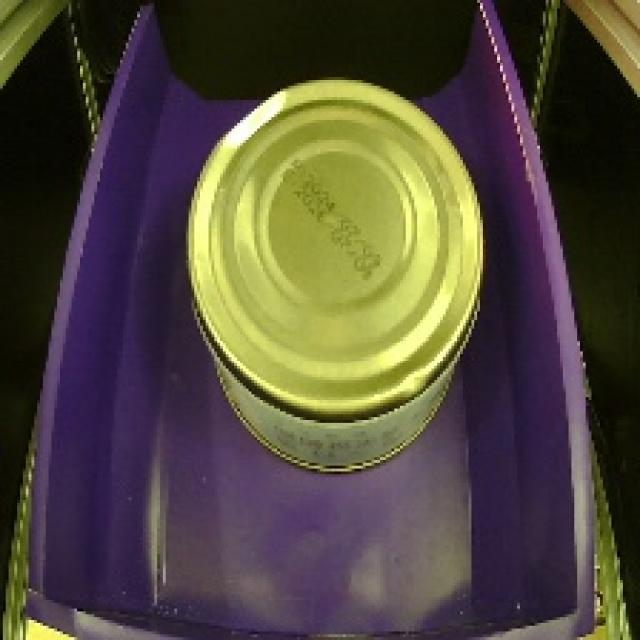metal: (170, 69, 500, 484)
